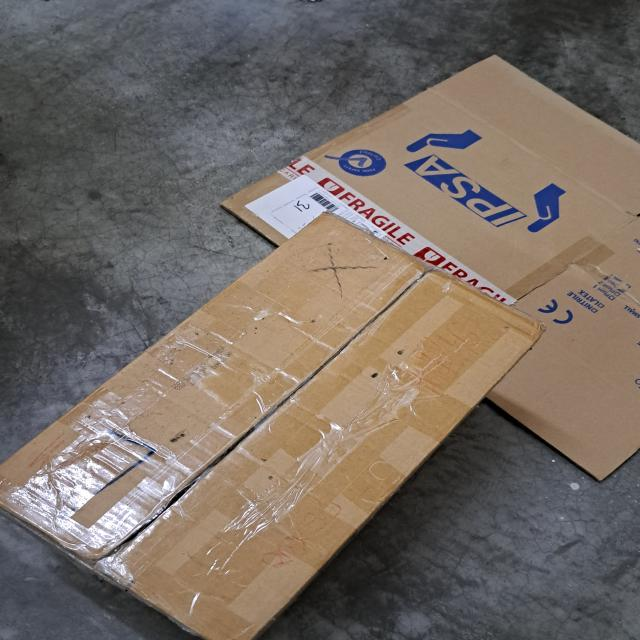cardboard: (0, 212, 545, 640), (223, 55, 640, 486)
